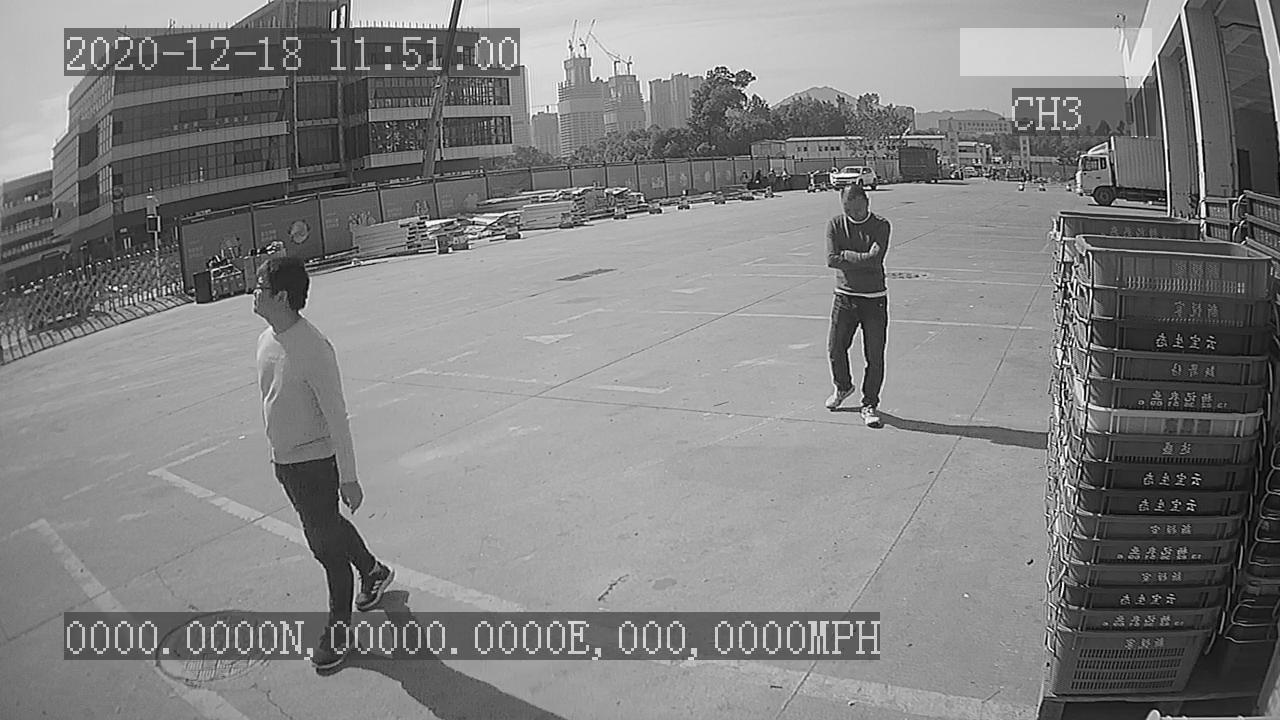person: (815, 181, 899, 436)
